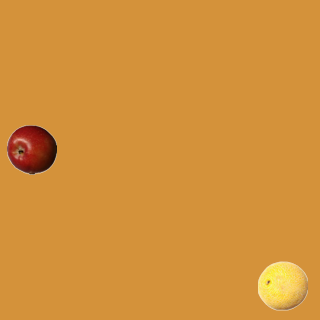Apple Braeburn: (6, 124, 56, 174)
Cantaloupe 1: (257, 260, 307, 310)
